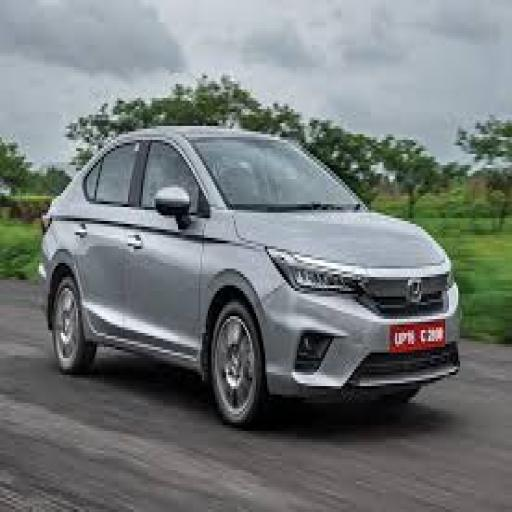License: (386, 322, 450, 356)
